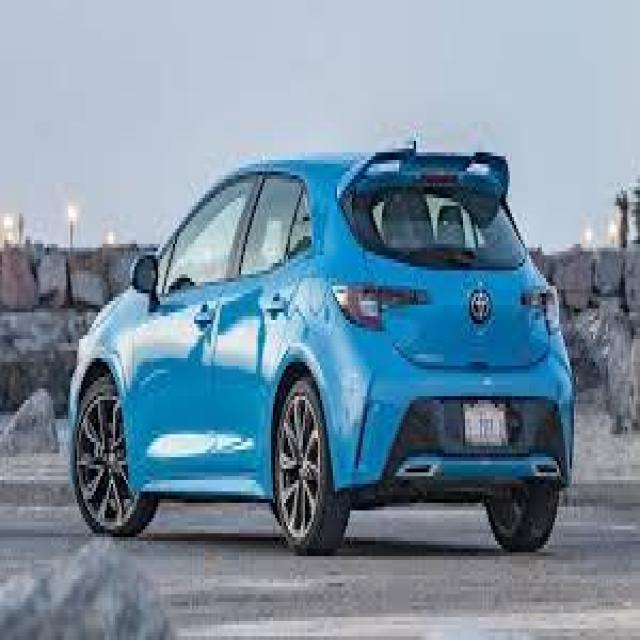Hatchback: (70, 145, 574, 549)
